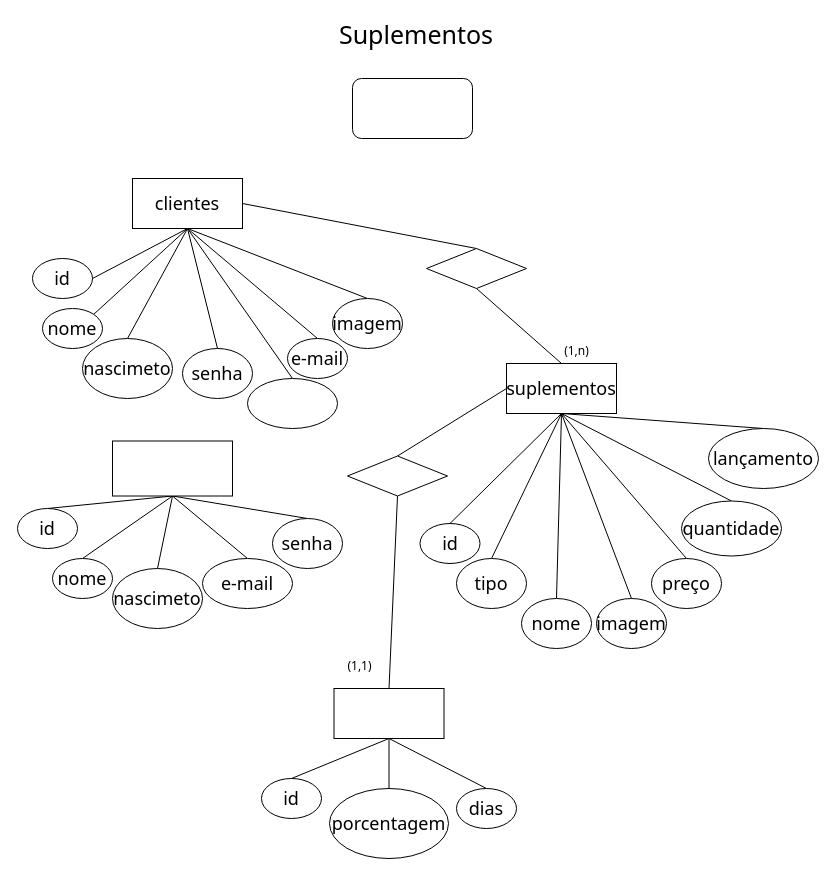
Some shapes in this 836 by 876 pixel diagram are drawn without their labels. Each missing label, with the box of its shape:
administrador: (112, 440, 232, 496)
compra: (426, 248, 526, 288)
endereço: (246, 378, 338, 428)
MER - DER: (352, 78, 472, 138)
possui: (346, 455, 448, 496)
promoções: (333, 688, 444, 738)
